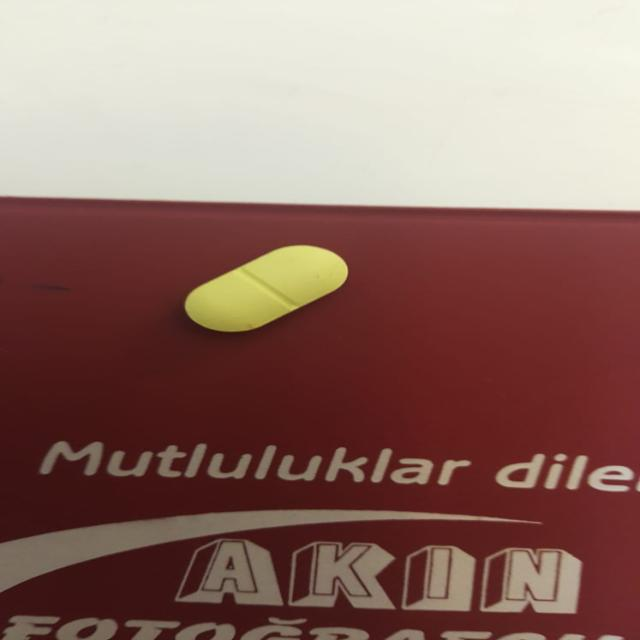pills: (165, 234, 360, 337)
